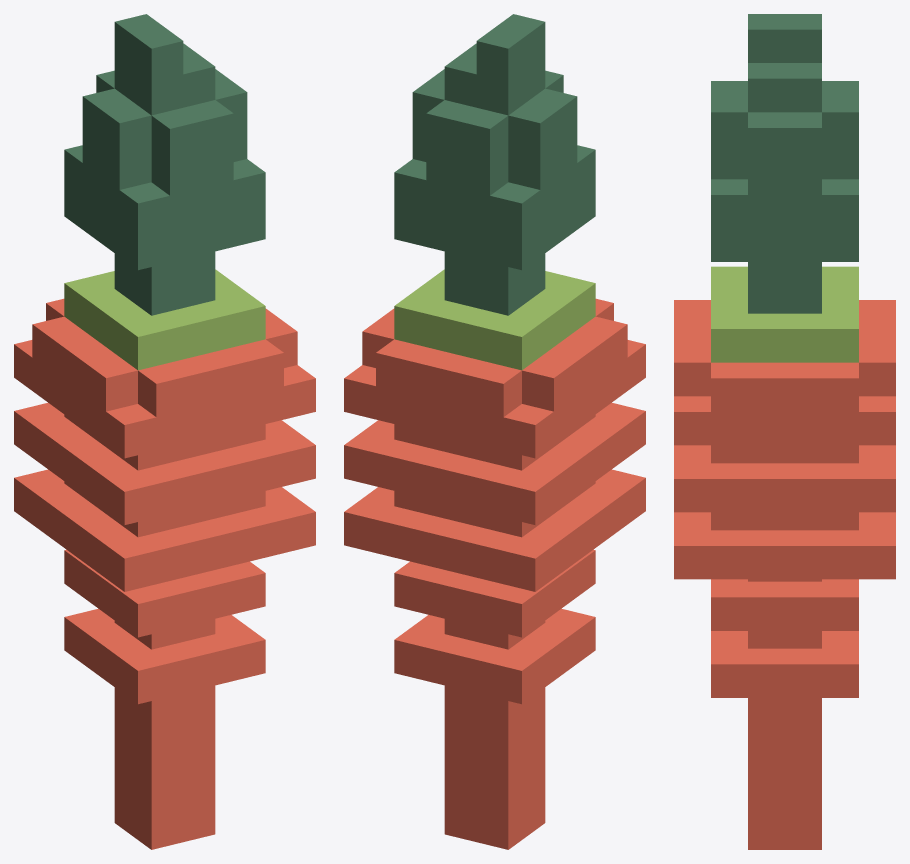
Rendered from marchewka.dae.
The picture shows the model from 3 angles, left to right: view 1: azimuth 30°, elevation 25°; view 2: azimuth 150°, elevation 25°; view 3: azimuth 270°, elevation 25°; orthographic projection.
Parts seen in each view (by area): view 1: marchewka; view 2: marchewka; view 3: marchewka.
Boxes of the visible parts, x1=… form: marchewka: x1=14, y1=14, x2=315, y2=849; marchewka: x1=344, y1=14, x2=645, y2=849; marchewka: x1=674, y1=14, x2=895, y2=849.
Size of the model in its own units: 6 by 24 by 6.
Materials: 1 (1 with a texture image).
